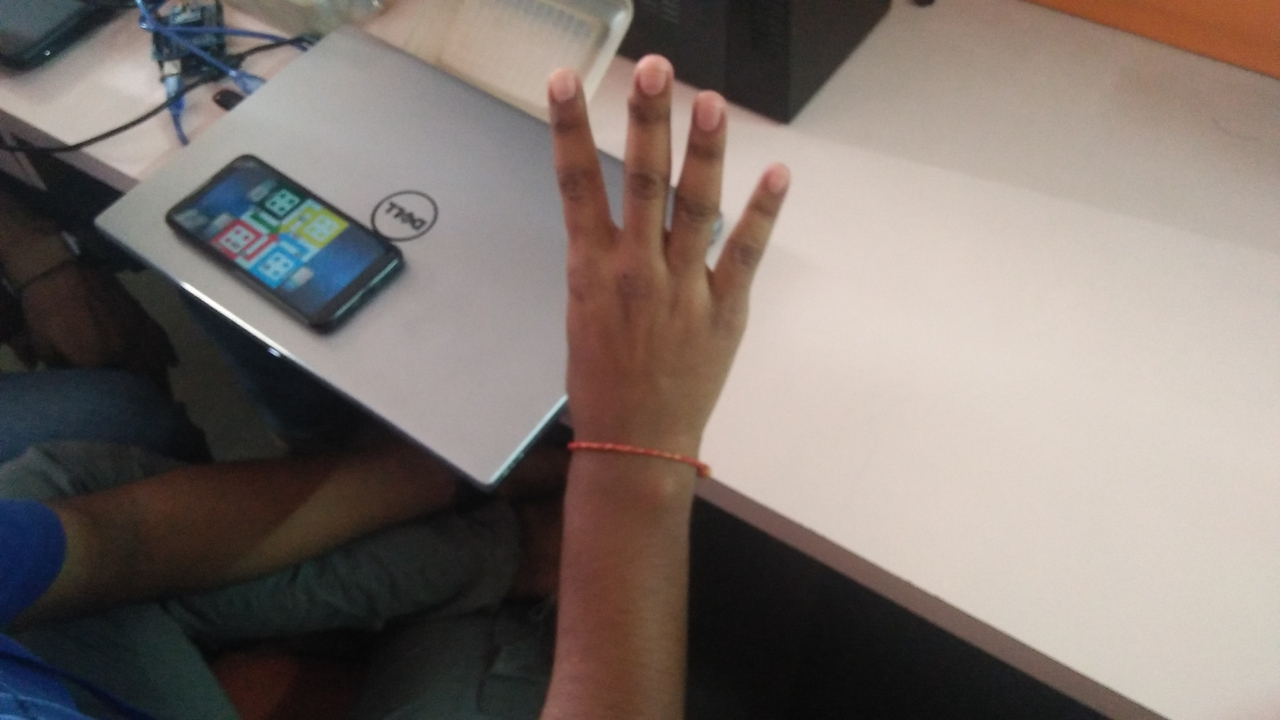fingertip: (620, 44, 684, 104), (674, 78, 740, 134), (742, 144, 802, 198), (536, 56, 594, 108)
